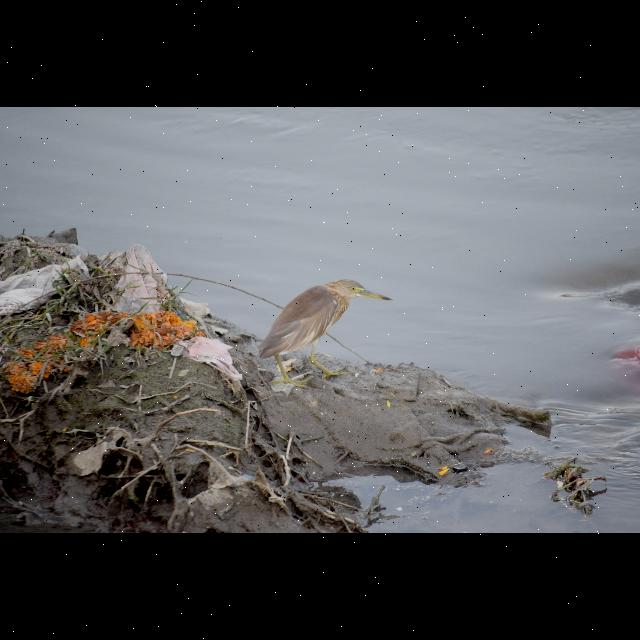heron: (248, 268, 396, 394)
